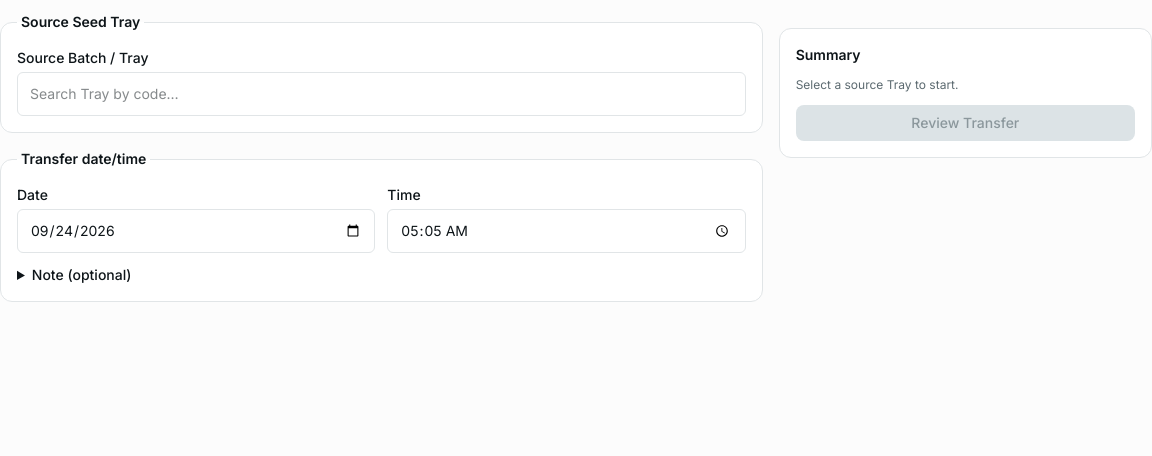
IntervinesTransplantForm › establishes the Batch and shows available plants from the selected source Tray
Step 1. Focus the dropdown labelled "Source Batch / Tray" → (381, 94), box [17,72,746,116]
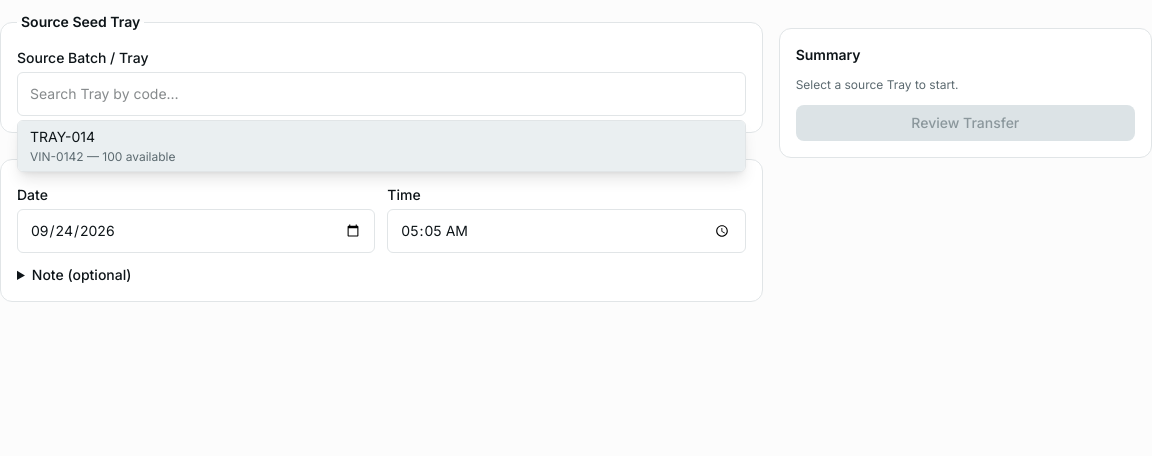
Step 2. Click the text "TRAY-014" → (63, 137), box [30,127,95,147]
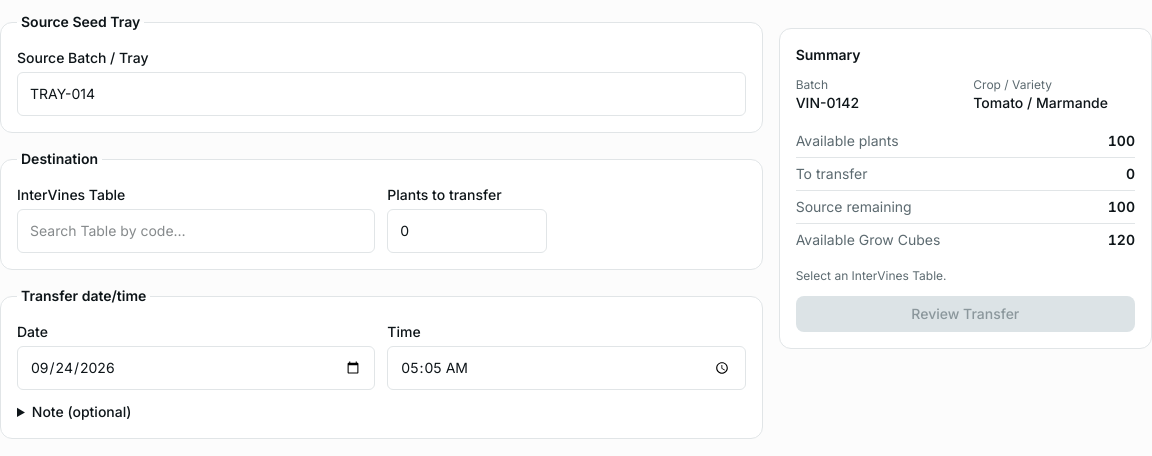
Result: the text "VIN-0142" is shown at [796,94,859,111]
Result: the text "Available plants" is shown at [796,131,899,151]
Result: the text "100" in the row of "Available plants" is shown at [1108,132,1135,149]
